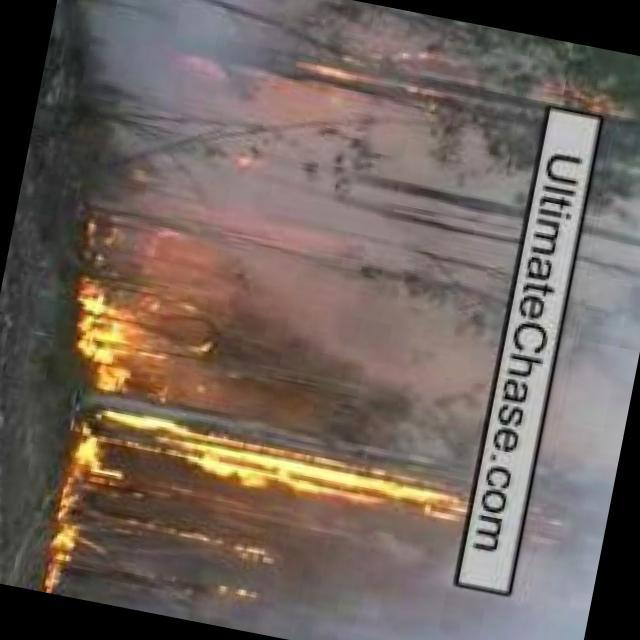Fire: (72, 417, 493, 555), (56, 266, 206, 403), (244, 48, 376, 127), (41, 494, 86, 598), (538, 84, 629, 132)
